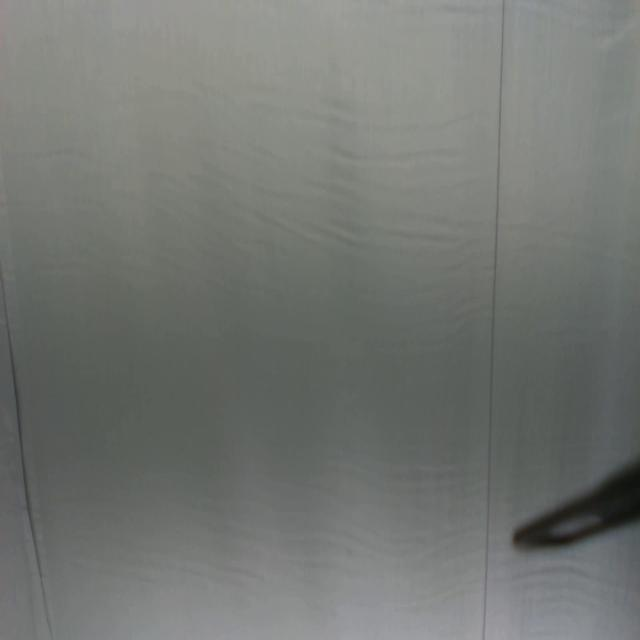crease: (1, 258, 56, 640), (481, 0, 506, 640)
